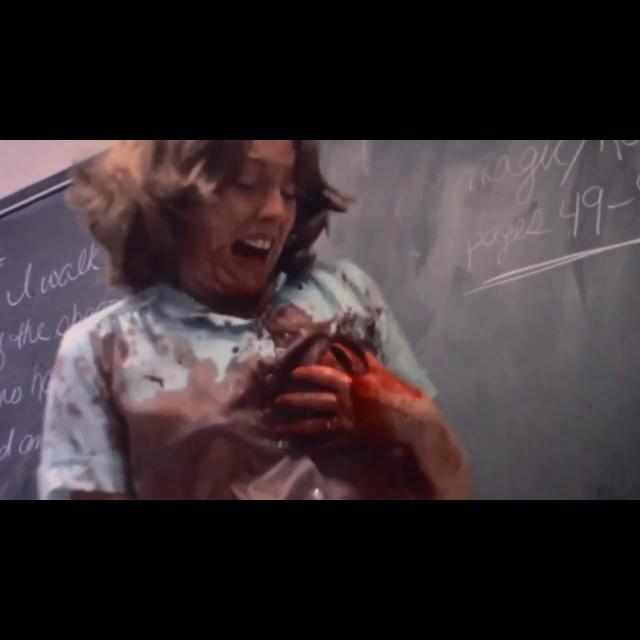blood: (50, 212, 473, 500)
